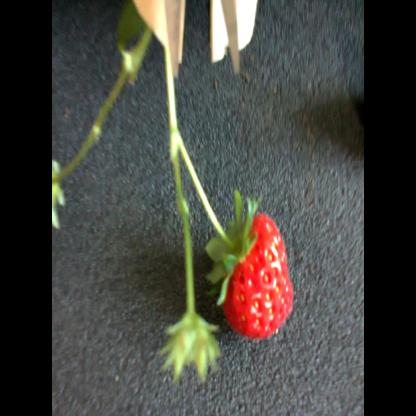ripe: (222, 216, 300, 344)
